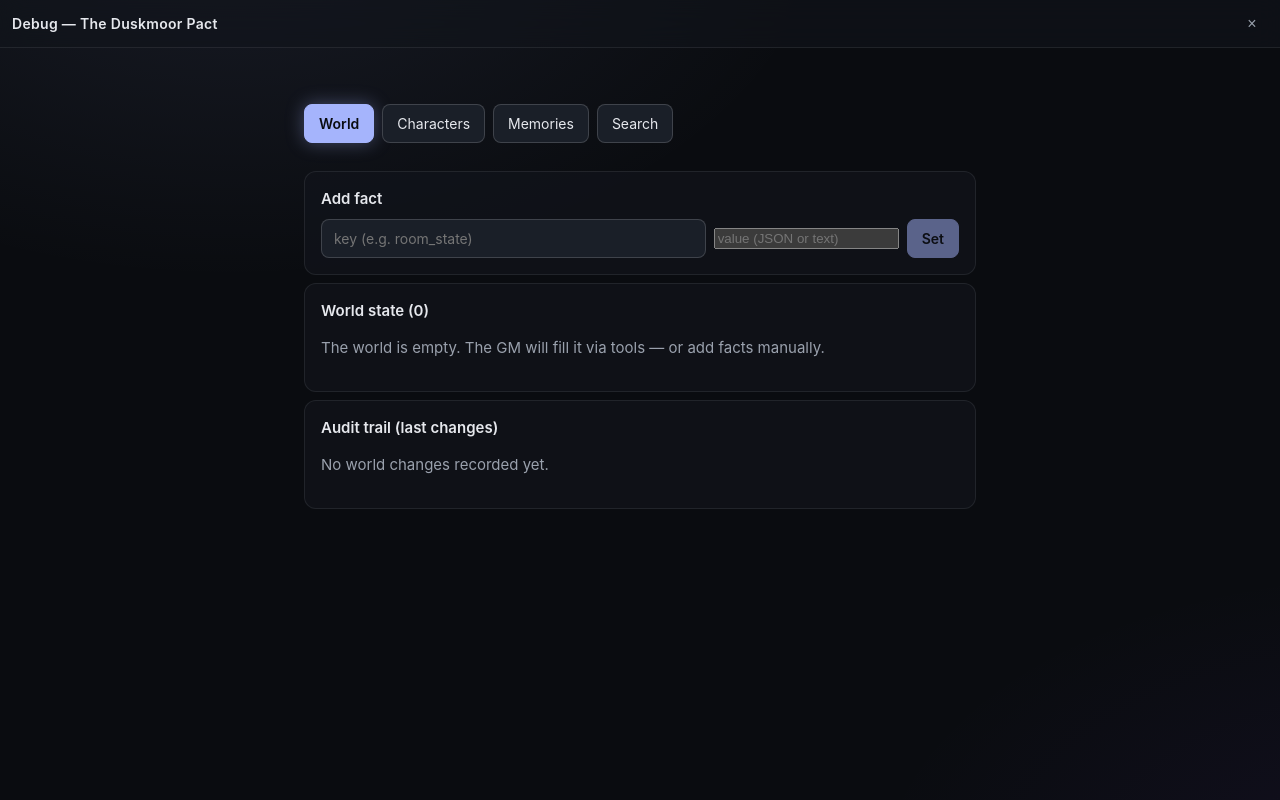
Test: debug window › renders the section tabs and switches panels
Expected: the text "Debug — The Duskmoor Pact" is shown, [12,13,218,34]
Expected: the heading "Add fact" is shown, [321,189,382,208]
What coordinates should you click on to do the following:
click the button "Characters"
I would click on:
 (434, 124)
Its box is [382,104,485,143].
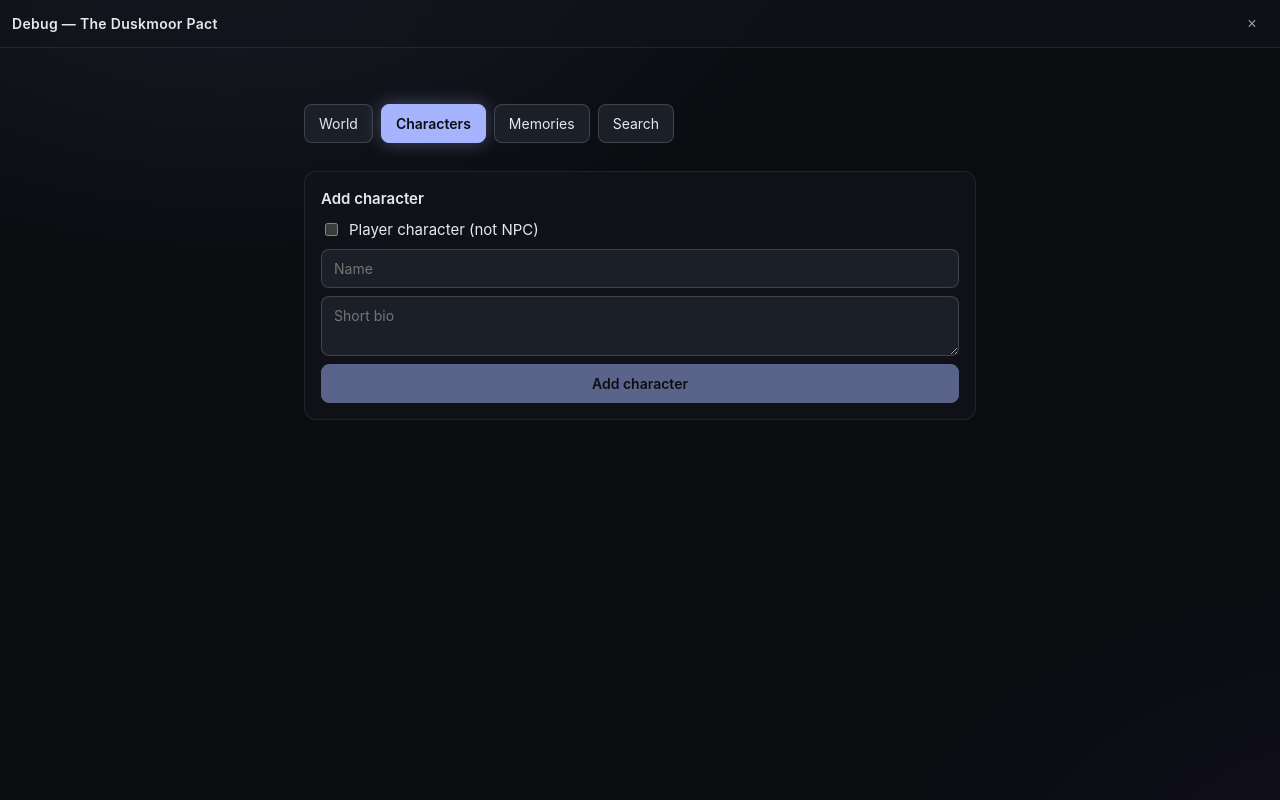
Expected: the button "Add character" is shown, [321,364,959,403]
